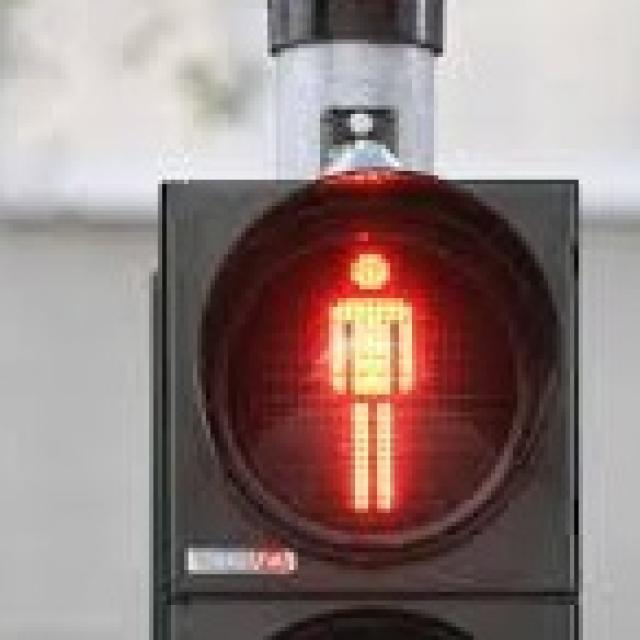red-crossing: (294, 232, 438, 526)
